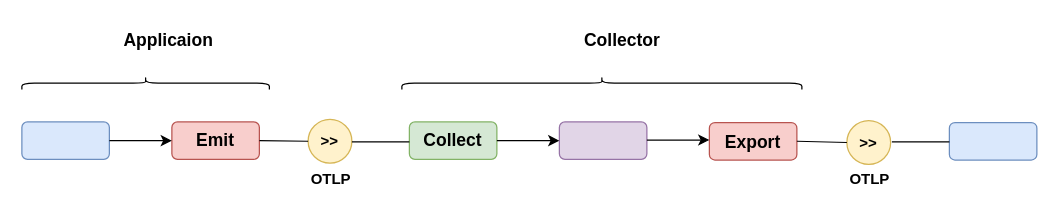
Image size: 1059x219. Some labels were removed from this diagram. Here are the shapes that lost their labels. From the top down, the centre of each, then its label:
At pixel 65 140: "Generate".
At pixel 602 140: "Process".
At pixel 992 140: "Backend".
